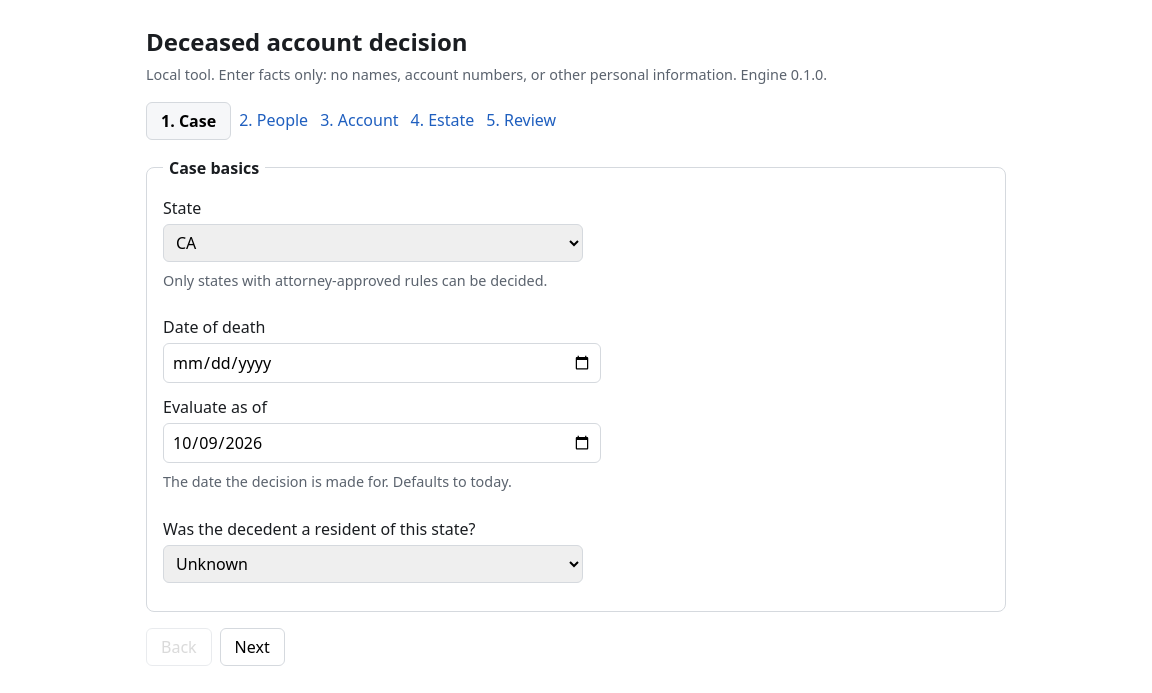
Test case: service failures are reported without crashing
Step 1. Click the button "5. Review" → (521, 120), box [482,102,560,138]
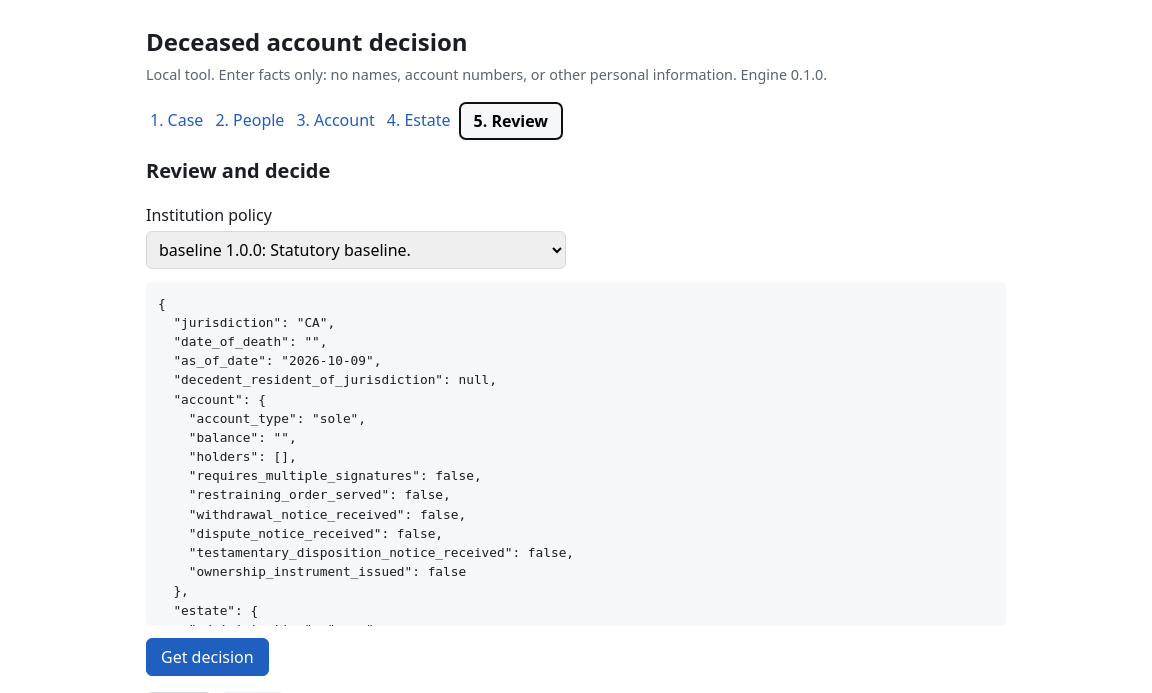
Step 2. Click the button "Get decision" → (207, 657), box [146,638,269,676]
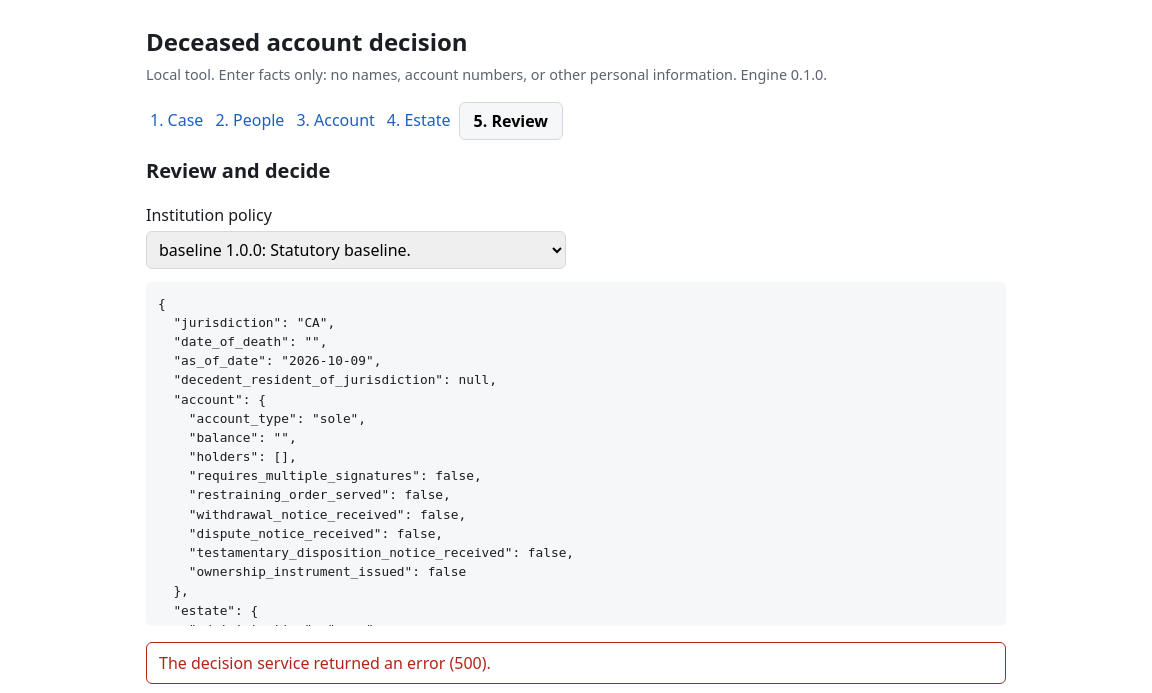
Result: the text "The decision service returned an error (500)." is shown at [146,642,1006,684]
